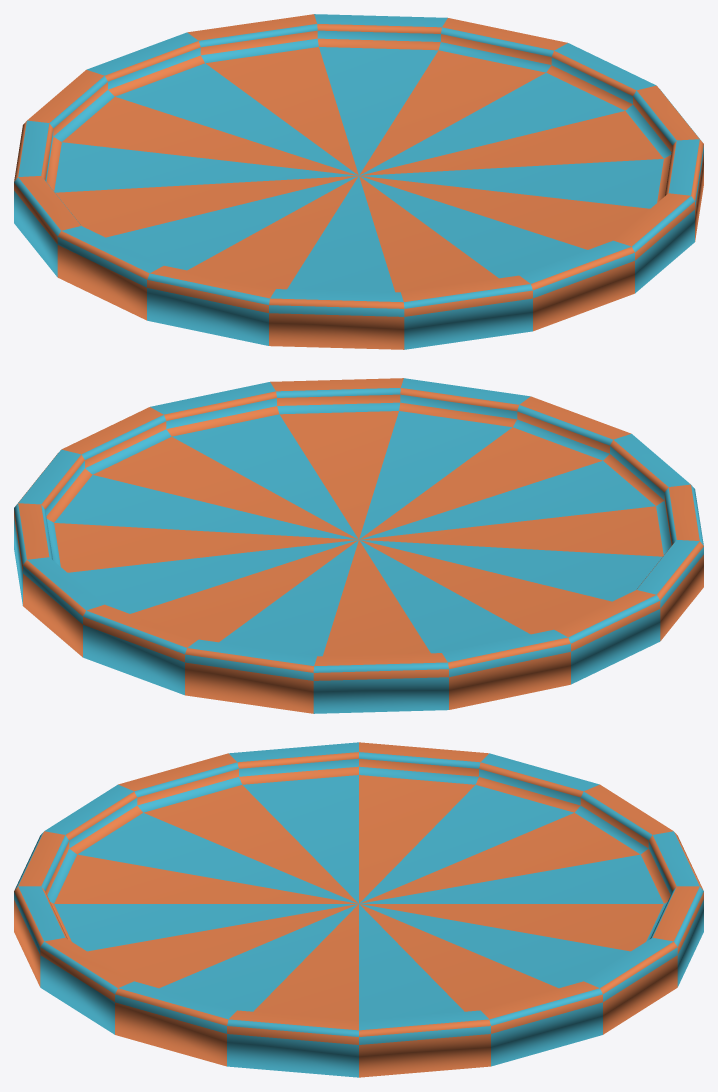
The model's file is Air Hockey Puck.fbx.
3 views of the same model, one above another, from view 1: azimuth 30°, elevation 25°; view 2: azimuth 150°, elevation 25°; view 3: azimuth 270°, elevation 25° (orthographic).
Parts seen in each view (by area): view 1: Cylinder; view 2: Cylinder; view 3: Cylinder.
Part boxes in pixels (left/top/right/bottom): Cylinder: left=14, top=14, right=703, bottom=349; Cylinder: left=14, top=378, right=703, bottom=713; Cylinder: left=14, top=742, right=703, bottom=1077.
Bounding box in the file's own units: 767 × 55.83 × 767.
